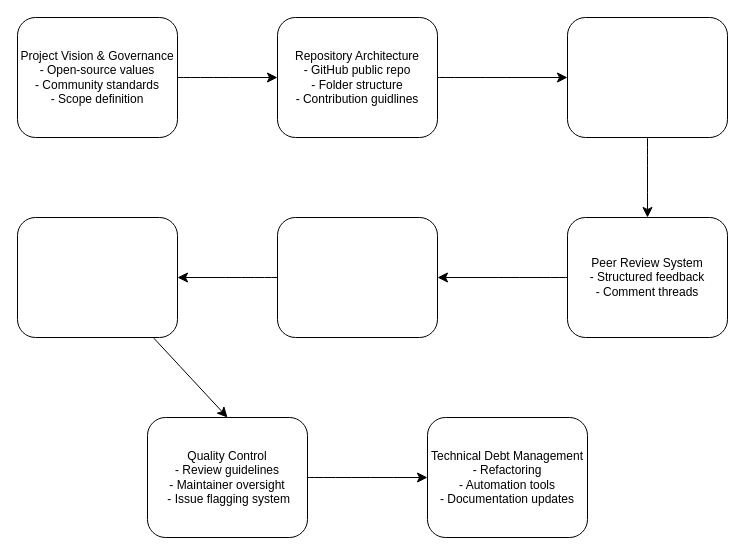
Some shapes in this 745 by 555 pixel diagram are drawn without their labels. Here are the shapes that lost their labels. From the top down, the centre of each, then its label:
At pixel 647 77: "Core Resources - Resume templates - Cover letter templates - Version control".
At pixel 97 277: "User Interaction - Template discovery -Template downloads - Issue creation".
At pixel 357 277: "Submission Pipeline - Resume anonymization - Folder upload - Metadata tagging".
